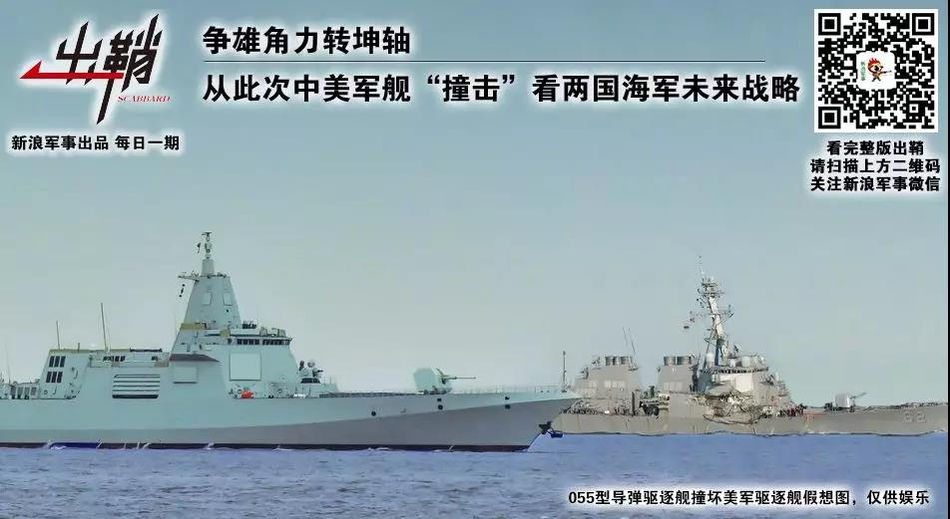warship: (2, 223, 584, 447), (536, 271, 950, 439)
